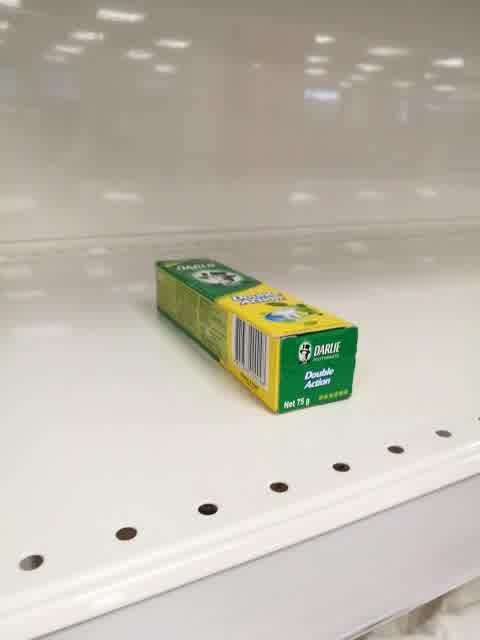toothpaste: (153, 257, 360, 416)
